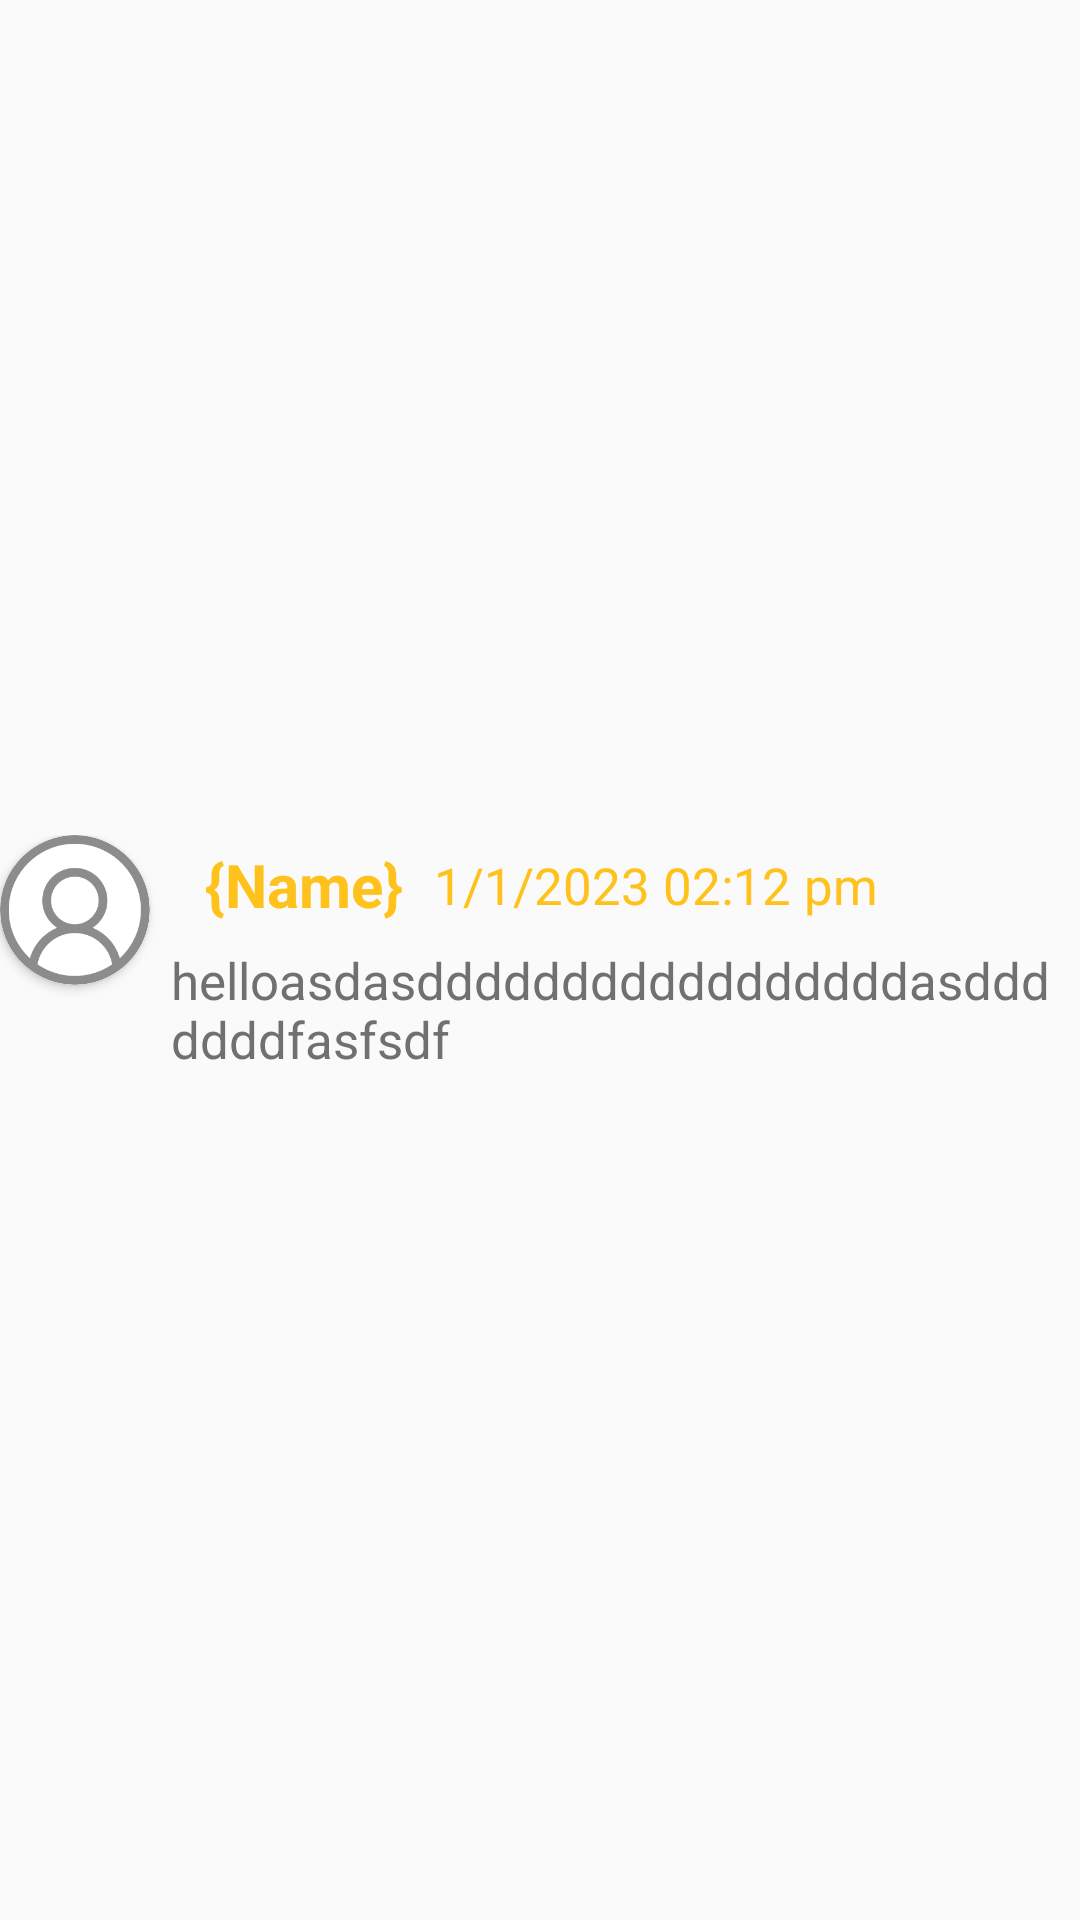

Icon bounding boxes for this 1080 × 1920 phone screenshot, format (left=x1, top=y1, right=x2, bottom=y2):
profile pic: (left=0, top=835, right=150, bottom=985)
